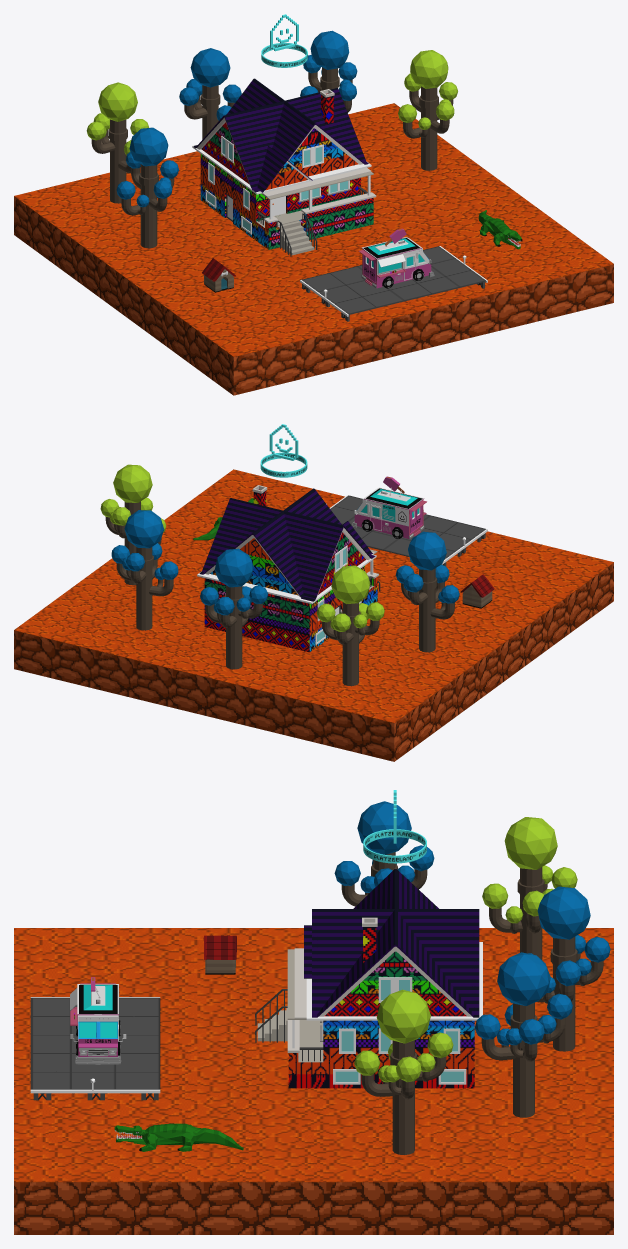
3 renders of one model, top to bottom at view 1: azimuth 30°, elevation 25°; view 2: azimuth 150°, elevation 25°; view 3: azimuth 270°, elevation 25°, orthographic. The views are drawn at different scales.
Visible parts, largest first — view 1: Cube.001, Cube.966, VEHICLES_ICE_CREAM_TRUCK, TYPE_PREMIUM, ANIMAL_COCODRILO, OBJRANDOM_DOGHOUSE; view 2: Cube.001, Cube.966, VEHICLES_ICE_CREAM_TRUCK, TYPE_PREMIUM, OBJRANDOM_DOGHOUSE; view 3: Cube.001, Cube.966, VEHICLES_ICE_CREAM_TRUCK, ANIMAL_COCODRILO, TYPE_PREMIUM, OBJRANDOM_DOGHOUSE.
Boxes of the visible parts, x1,y1,x2,y2 form: Cube.001: [14, 30, 613, 395]; Cube.966: [192, 78, 376, 256]; VEHICLES_ICE_CREAM_TRUCK: [358, 228, 434, 288]; TYPE_PREMIUM: [261, 14, 307, 67]; ANIMAL_COCODRILO: [478, 210, 522, 249]; OBJRANDOM_DOGHOUSE: [202, 258, 235, 292]; Cube.001: [14, 464, 613, 761]; Cube.966: [197, 485, 380, 652]; VEHICLES_ICE_CREAM_TRUCK: [351, 476, 426, 538]; TYPE_PREMIUM: [260, 424, 307, 477]; OBJRANDOM_DOGHOUSE: [460, 574, 494, 608]; Cube.001: [14, 801, 613, 1234]; Cube.966: [255, 869, 482, 1088]; VEHICLES_ICE_CREAM_TRUCK: [70, 977, 126, 1064]; ANIMAL_COCODRILO: [114, 1123, 243, 1151]; TYPE_PREMIUM: [363, 790, 426, 863]; OBJRANDOM_DOGHOUSE: [203, 935, 236, 974].
Bounding box in the file's own units: 4000 × 2511 × 4000.
51 materials, 9 textured.
